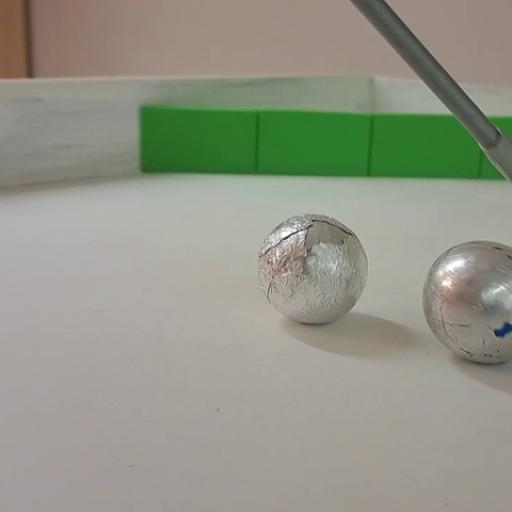alive: (257, 213, 367, 323), (420, 241, 512, 365)
